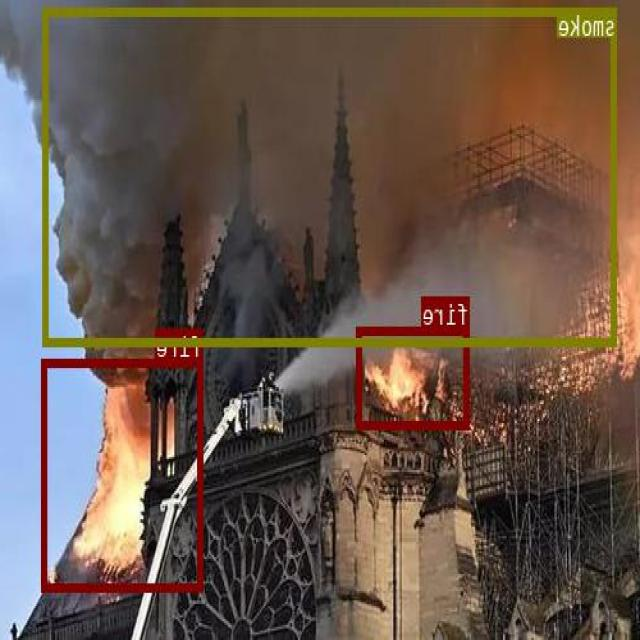fire: (43, 358, 204, 590), (358, 326, 471, 428)
smoke: (44, 8, 618, 346)
